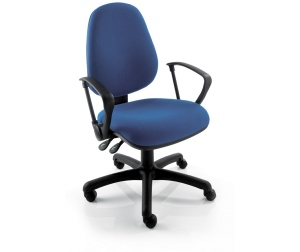chair: (80, 2, 217, 229)
